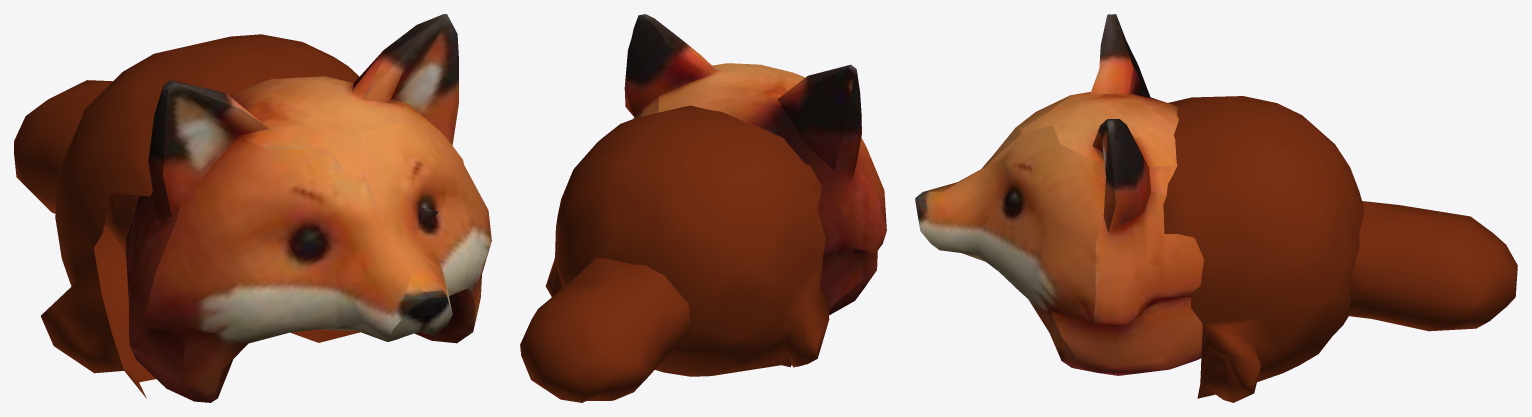
File: red-fox.glb
3 views of the same model, side by side, from view 1: azimuth 30°, elevation 25°; view 2: azimuth 150°, elevation 25°; view 3: azimuth 270°, elevation 25° (orthographic). The views are drawn at different scales.
Parts seen in each view (by area): view 1: geometry_0, HoodAnatomicalLining; view 2: HoodAnatomicalLining, geometry_0; view 3: geometry_0, HoodAnatomicalLining.
Boxes of the visible parts, x1=… form: geometry_0: x1=14, y1=14, x2=491, y2=402; HoodAnatomicalLining: x1=41, y1=34, x2=359, y2=398; HoodAnatomicalLining: x1=545, y1=105, x2=829, y2=376; geometry_0: x1=520, y1=14, x2=886, y2=402; geometry_0: x1=915, y1=14, x2=1517, y2=375; HoodAnatomicalLining: x1=1163, y1=96, x2=1364, y2=402.
Size of the model in its own units: 0.5073 by 0.4917 by 0.905.
Materials: 2 (1 with a texture image).
